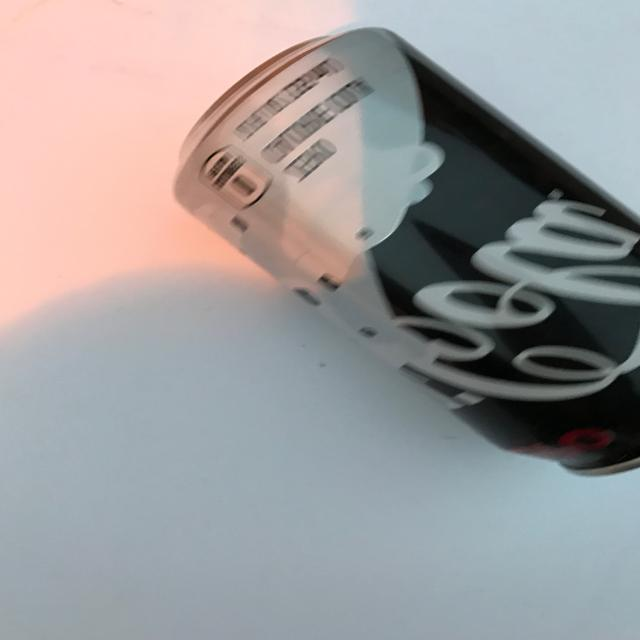metal: (171, 25, 640, 477)
